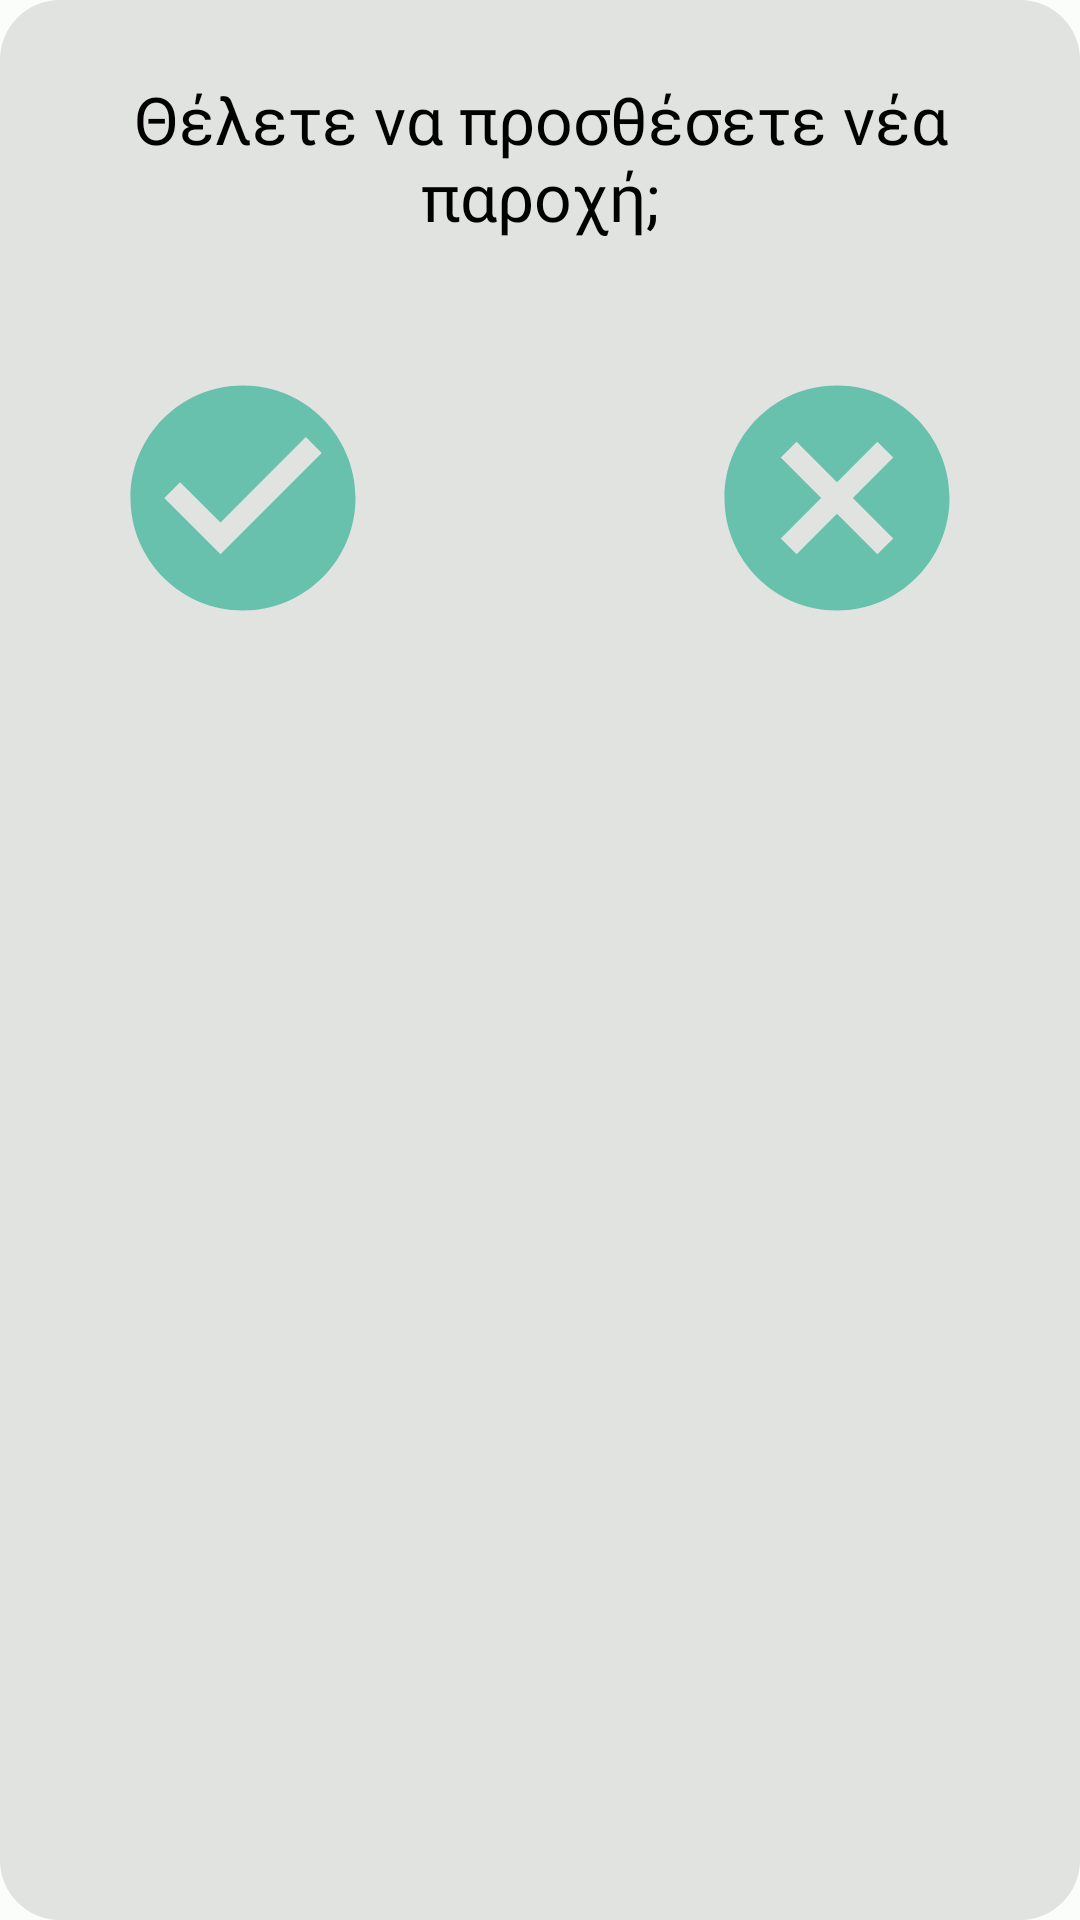

Icon click points for this 1080px x 1920px phone screenshot, format (x,y):
cancel: (837,498)
check circle: (243,498)
